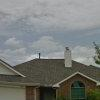Chimney: (59, 40, 82, 73)
